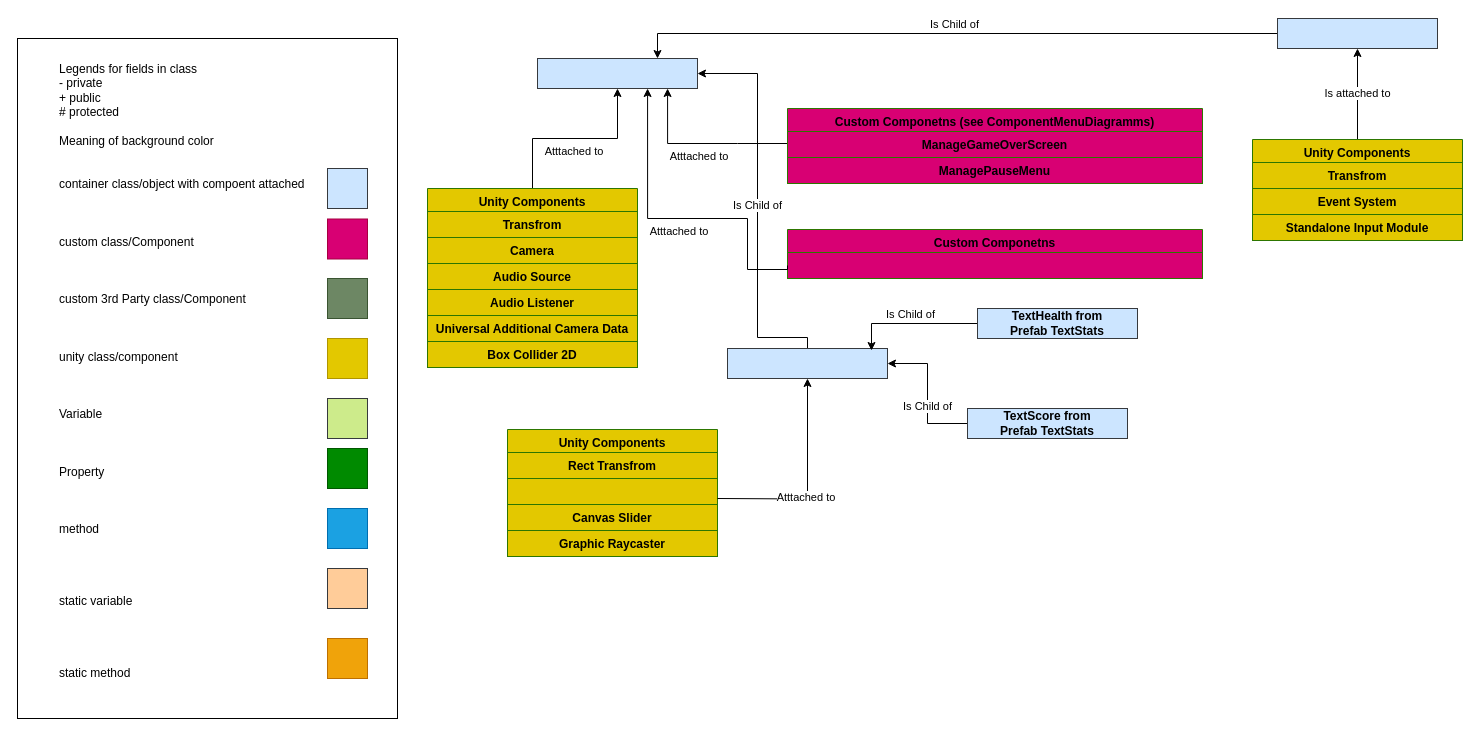
The diagram is 1480 pixels wide and 736 high, and some of its shapes have lost their labels. The shapes that lost their labels are listed below. From the top down, each one's centre as x and y in pixels, then its label:
At pixel 1357 33: "EventSystem".
At pixel 617 73: "PlayerCamera".
At pixel 994 265: "CameraFollow".
At pixel 807 363: "GUIPlayer".
At pixel 612 491: "Canvas".
